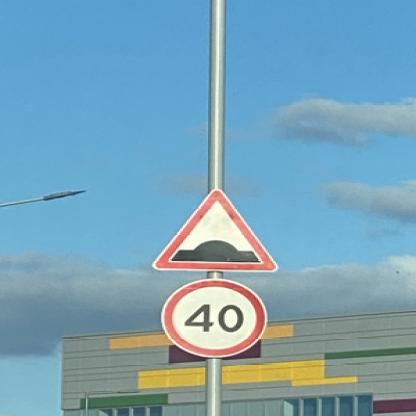speedlimit: (160, 278, 266, 356)
